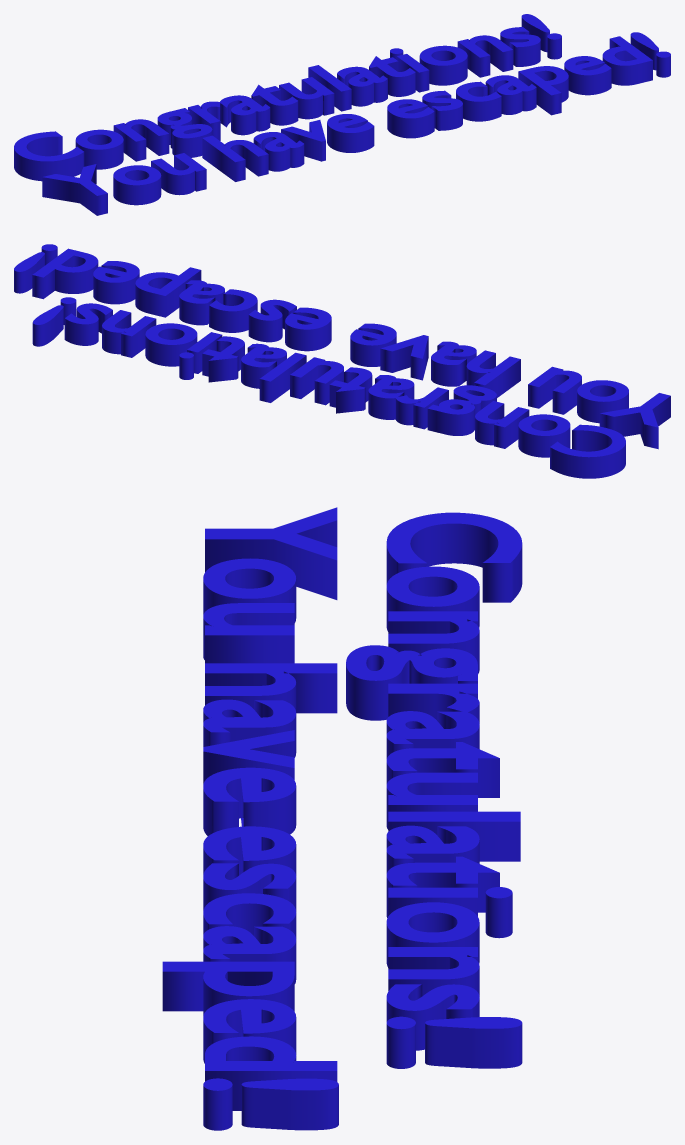
Rendered from fin_Text.fbx.
The picture shows the model from 3 angles, top to bottom: view 1: azimuth 30°, elevation 25°; view 2: azimuth 150°, elevation 25°; view 3: azimuth 270°, elevation 25°; orthographic projection. The views are drawn at different scales.
Parts seen in each view (by area): view 1: 텍스트; view 2: 텍스트; view 3: 텍스트.
Part boxes in pixels (x1,y1,x2,y2): 텍스트: [14, 14, 670, 215]; 텍스트: [14, 244, 670, 478]; 텍스트: [162, 507, 522, 1130].
Size of the model in its own units: 1215 by 38.71 by 316.
